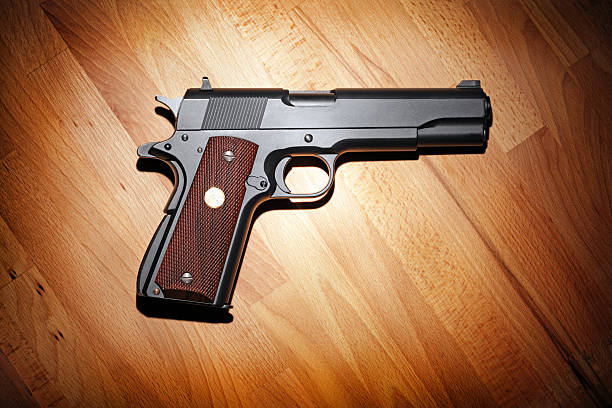gun: (134, 75, 496, 319)
